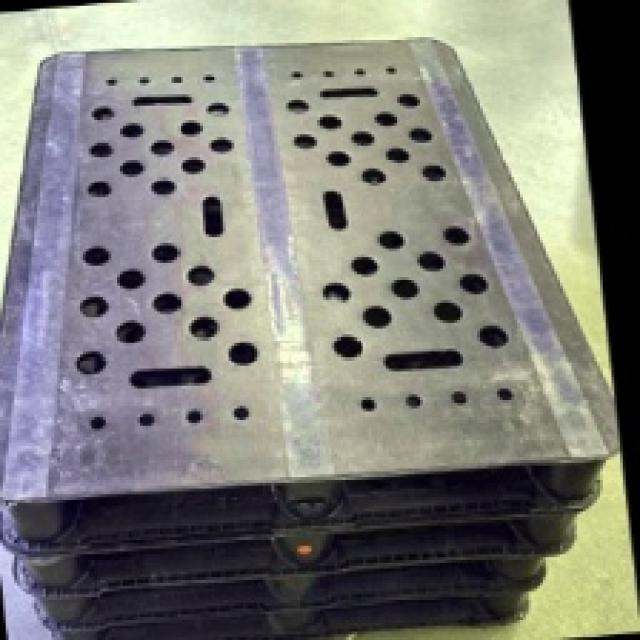igps: (0, 28, 626, 570)
